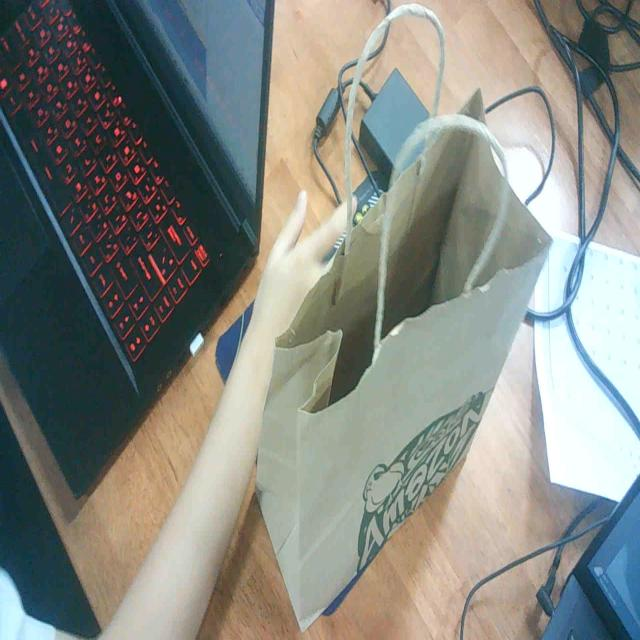bag: (208, 99, 552, 629)
